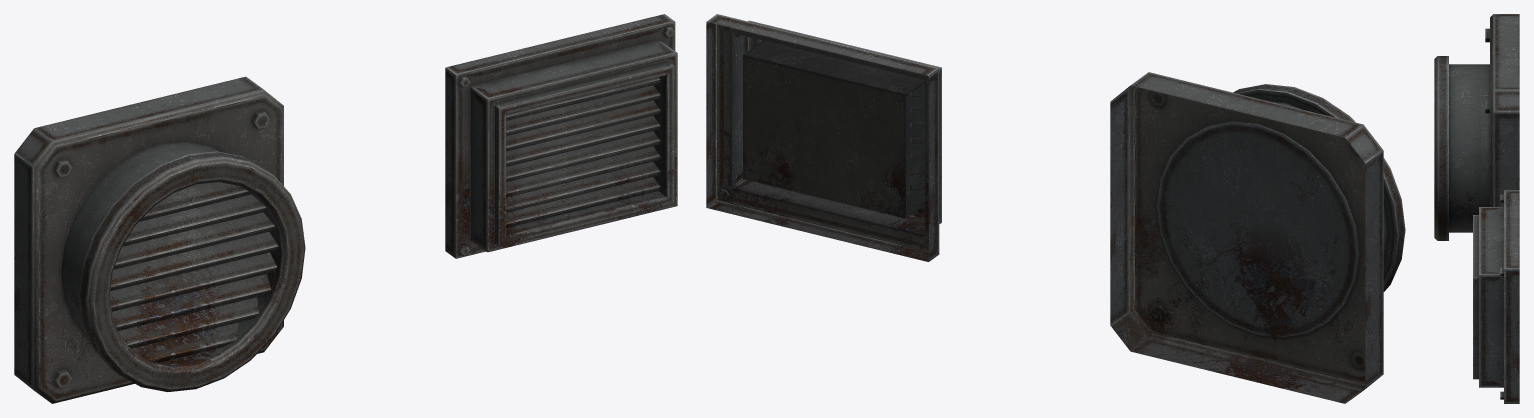
File: vents.glb
3 views of the same model, side by side, from view 1: azimuth 30°, elevation 25°; view 2: azimuth 150°, elevation 25°; view 3: azimuth 270°, elevation 25° (orthographic). The views are drawn at different scales.
Visible parts, largest first — view 1: vent2, vent1; view 2: vent2, vent1; view 3: vent2, vent1.
Boxes of the visible parts, x1,y1,x2,y2 form: vent2: (14, 76, 305, 403); vent1: (445, 14, 677, 258); vent2: (1110, 72, 1405, 403); vent1: (706, 14, 941, 261); vent2: (1434, 14, 1519, 240); vent1: (1473, 190, 1519, 403).
Bounding box in the file's own units: 445 × 172 × 68.98.
Materials: 1 (1 with a texture image).
